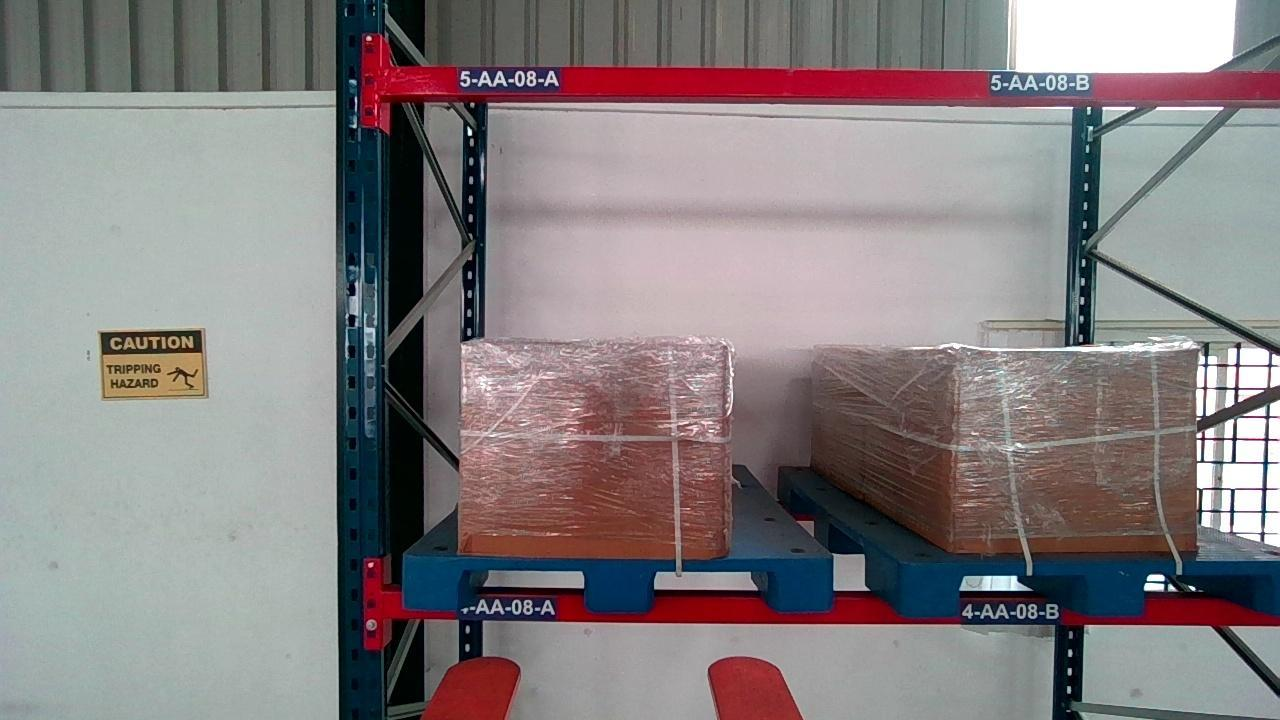h_rack: (388, 590, 1276, 622), (384, 67, 1279, 97)
small_pallet: (403, 556, 831, 607), (908, 559, 1279, 617)
